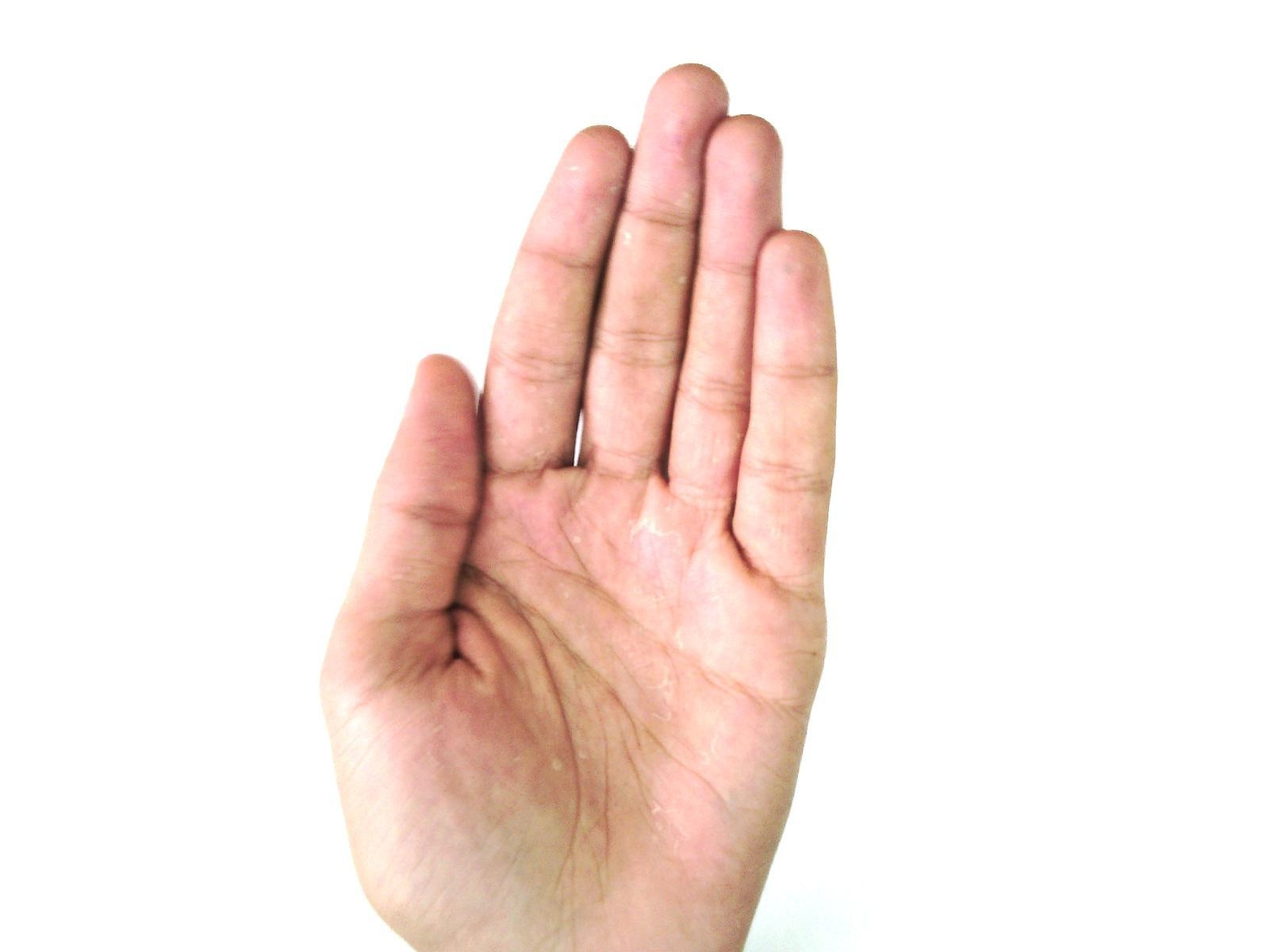open_palm: (317, 61, 842, 951)
